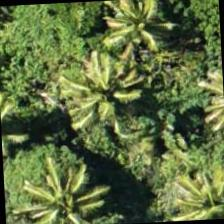Kelapa_Sawit: (42, 54, 137, 150), (81, 0, 176, 84), (12, 169, 106, 223)
